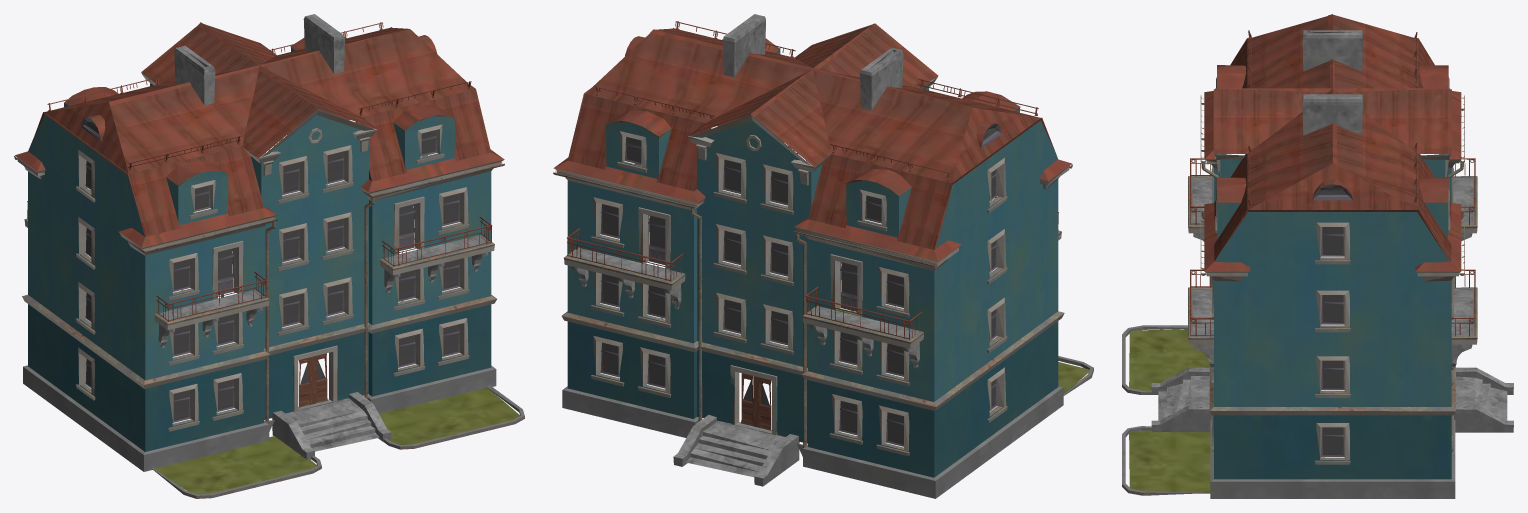
Rendered from Building1.glb.
3 renders of one model, left to right at view 1: azimuth 30°, elevation 25°; view 2: azimuth 150°, elevation 25°; view 3: azimuth 270°, elevation 25°, orthographic. The views are drawn at different scales.
Visible parts, largest first — view 1: 067-0-67; view 2: 067-0-67; view 3: 067-0-67.
Part boxes in pixels (x1,y1,x2,y2): 067-0-67: (14,14,524,498); 067-0-67: (553,14,1093,498); 067-0-67: (1122,14,1513,498).
Size of the model in its own units: 0.043 by 0.0389 by 0.0397.
Materials: 1 (1 with a texture image).
